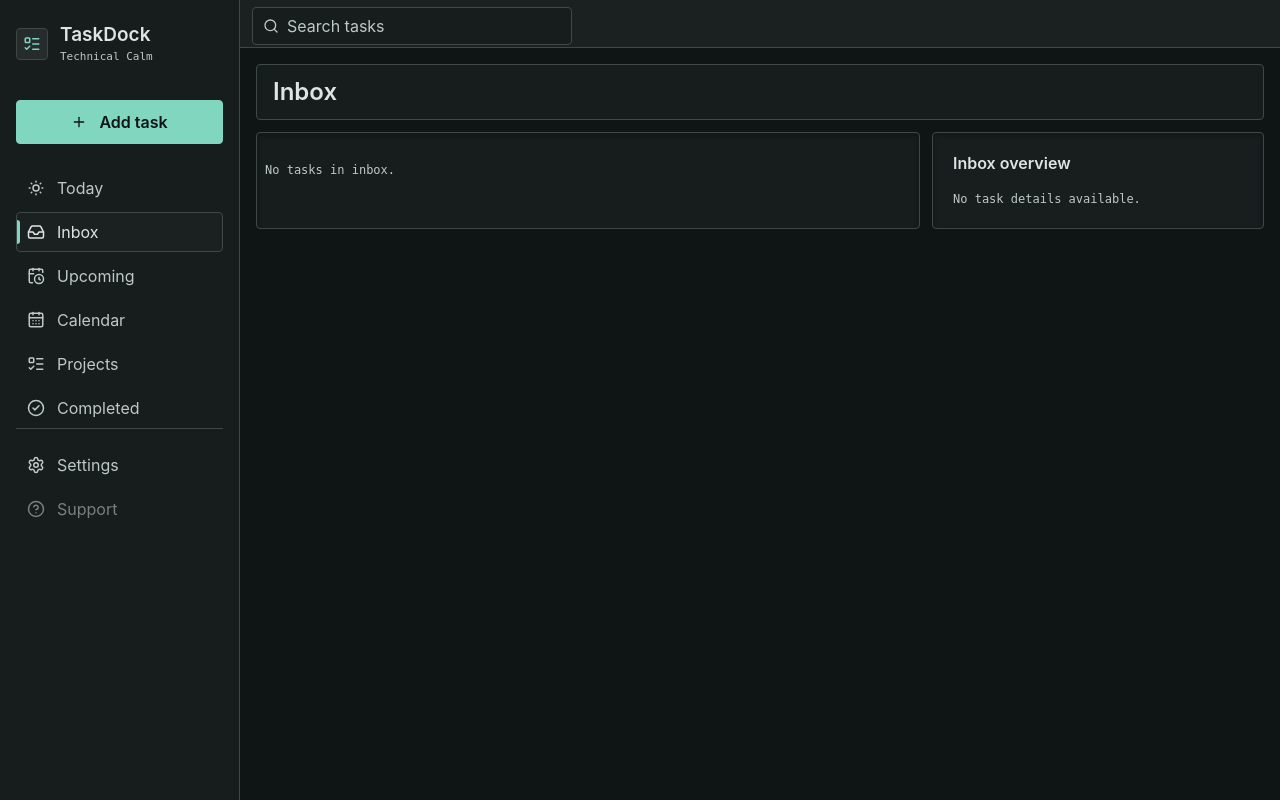
it: completes a selected project task and refreshes only that project ledger
Check: the text "No tasks in inbox." is shown, box [265, 163, 395, 177]
What coordinates should you click on to do the following:
click the button "Projects"
I would click on:
 (120, 364)
Its box is [16, 344, 223, 384].
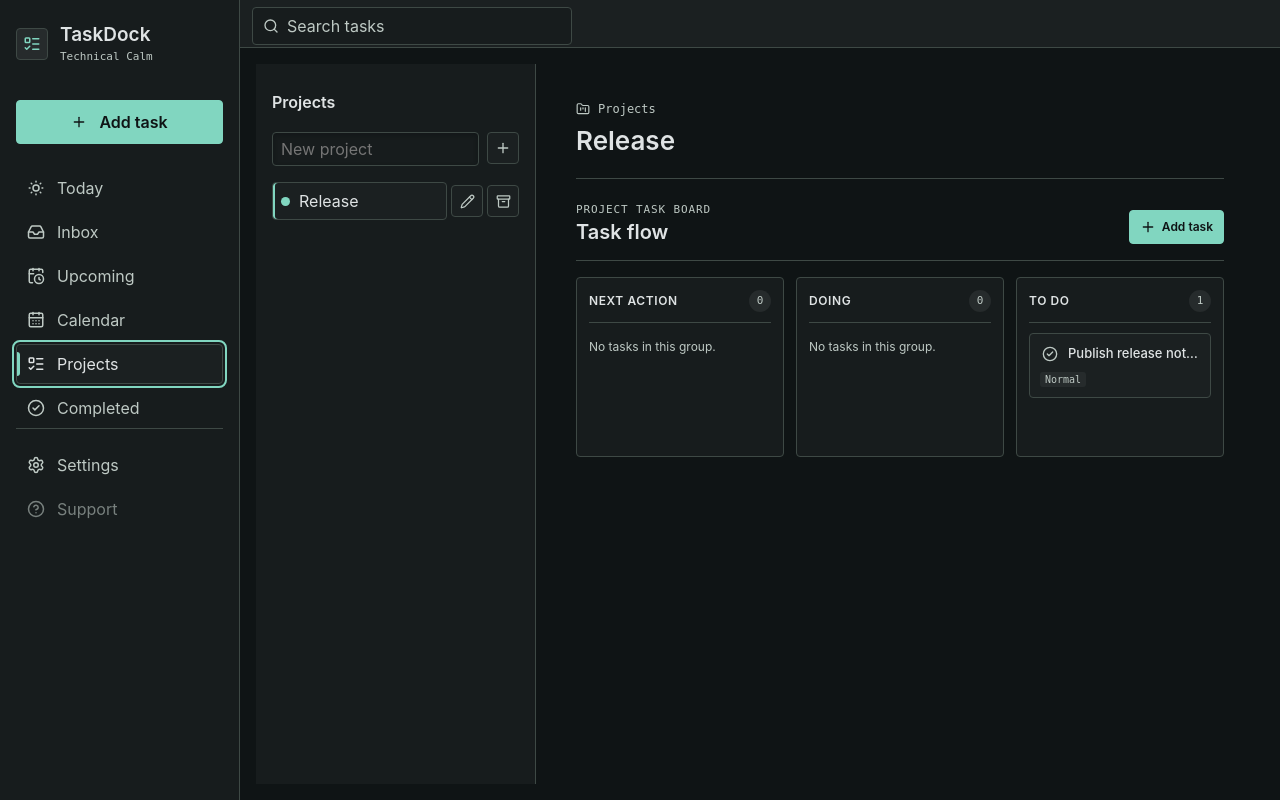
What coordinates should you click on to do the following:
click the button "Release"
I would click on:
 (360, 201)
Its box is [272, 182, 447, 220].
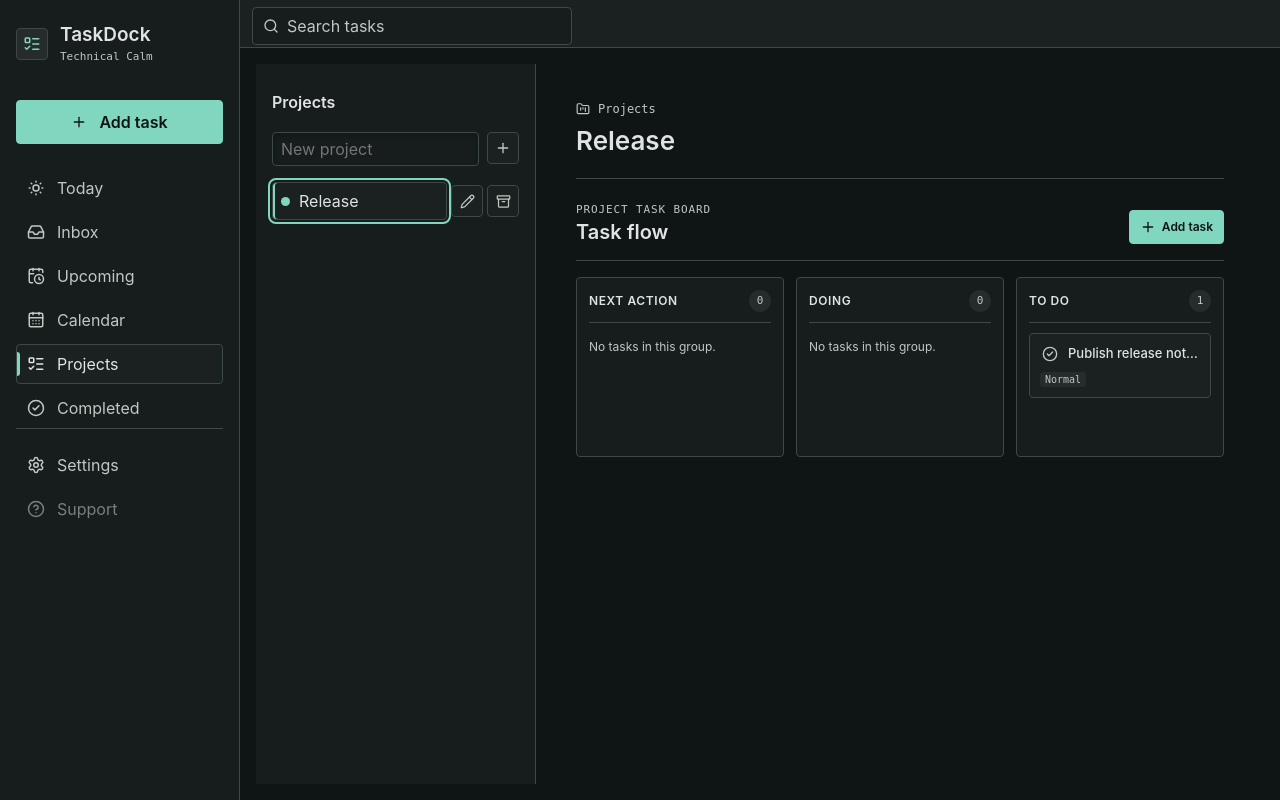
Check: the text "Publish release notes" is shown, box [1068, 344, 1200, 362]
What coordinates should you click on to do the following:
click the button named "Complete task Publish release notes"
I would click on:
 (1050, 354)
Its box is [1040, 344, 1060, 364].
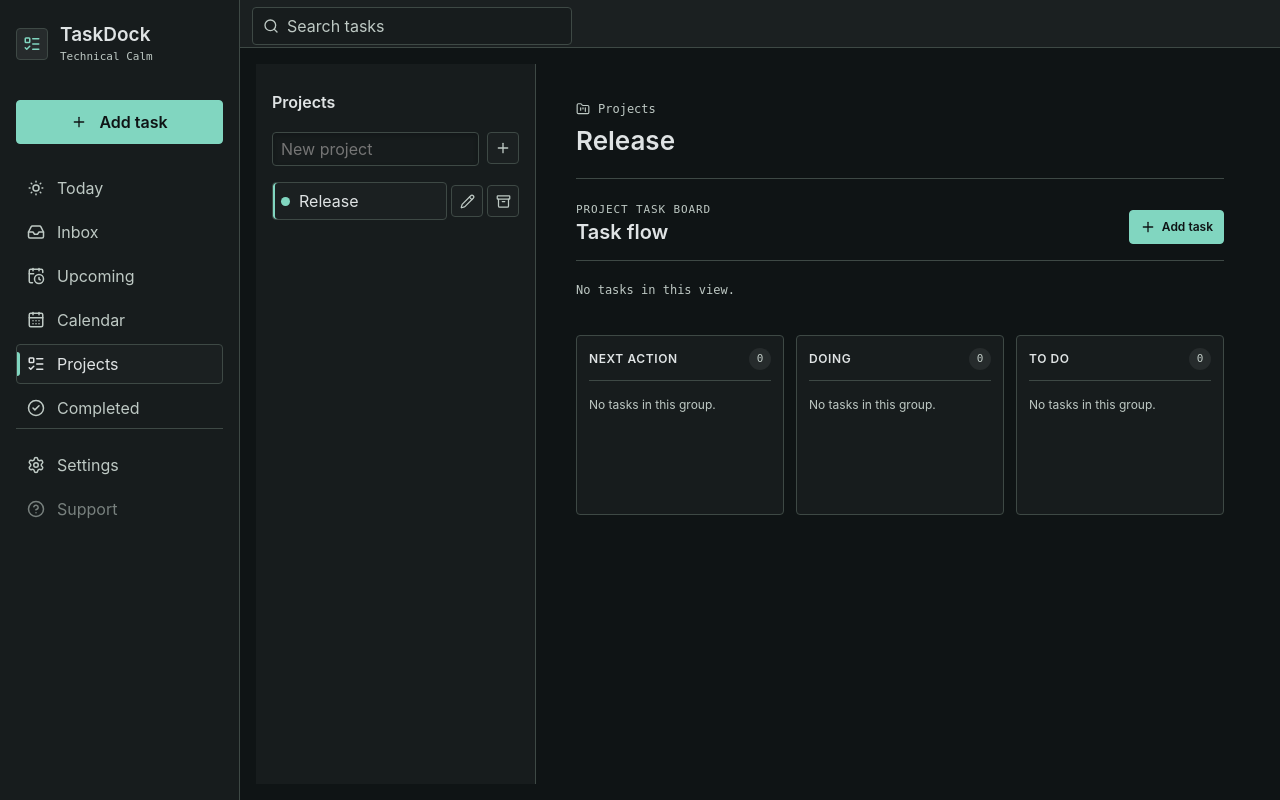
Check: the text "No tasks in this view." is shown, box [576, 283, 735, 297]
